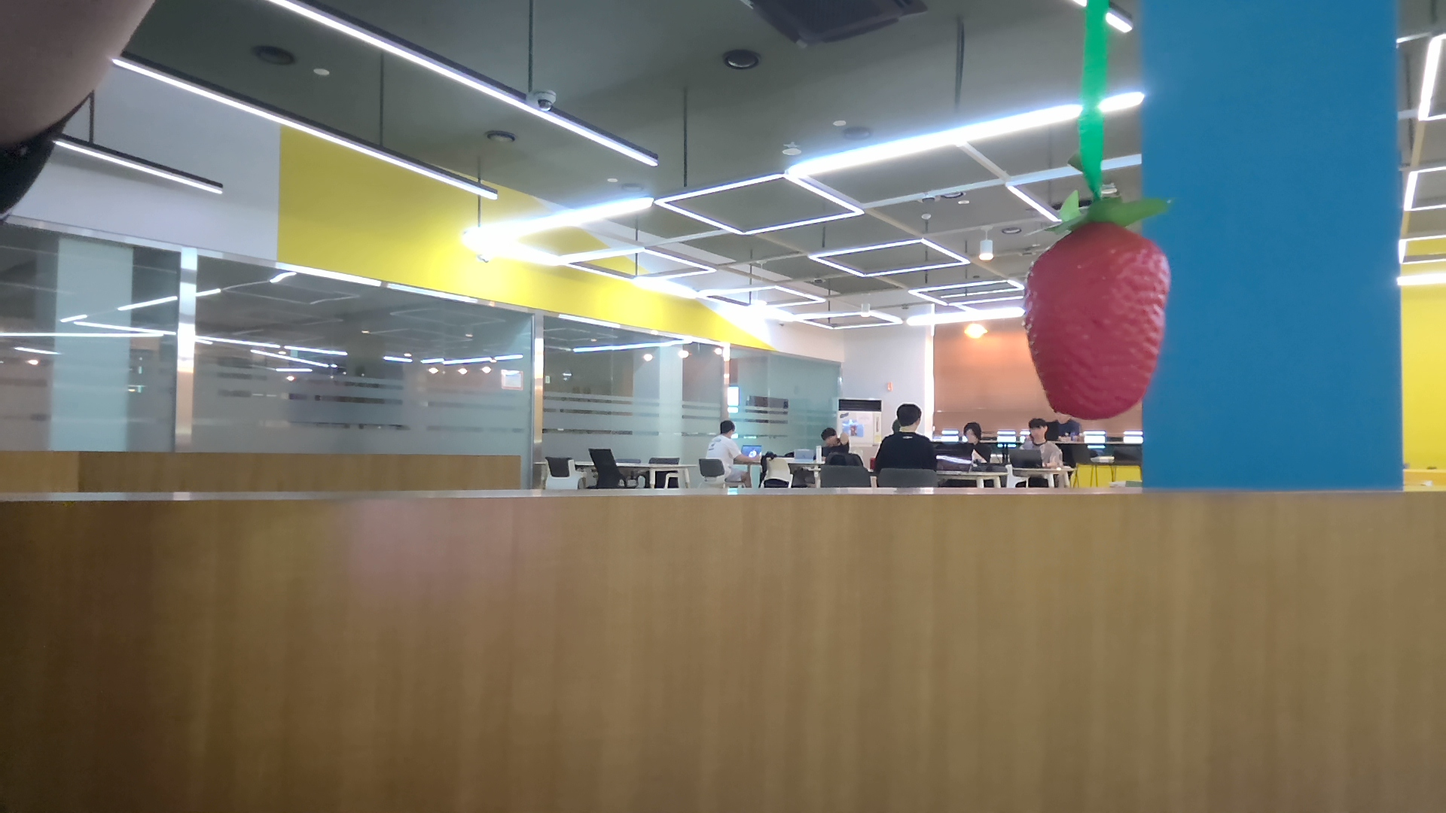strawberry: (1010, 207, 1181, 420)
